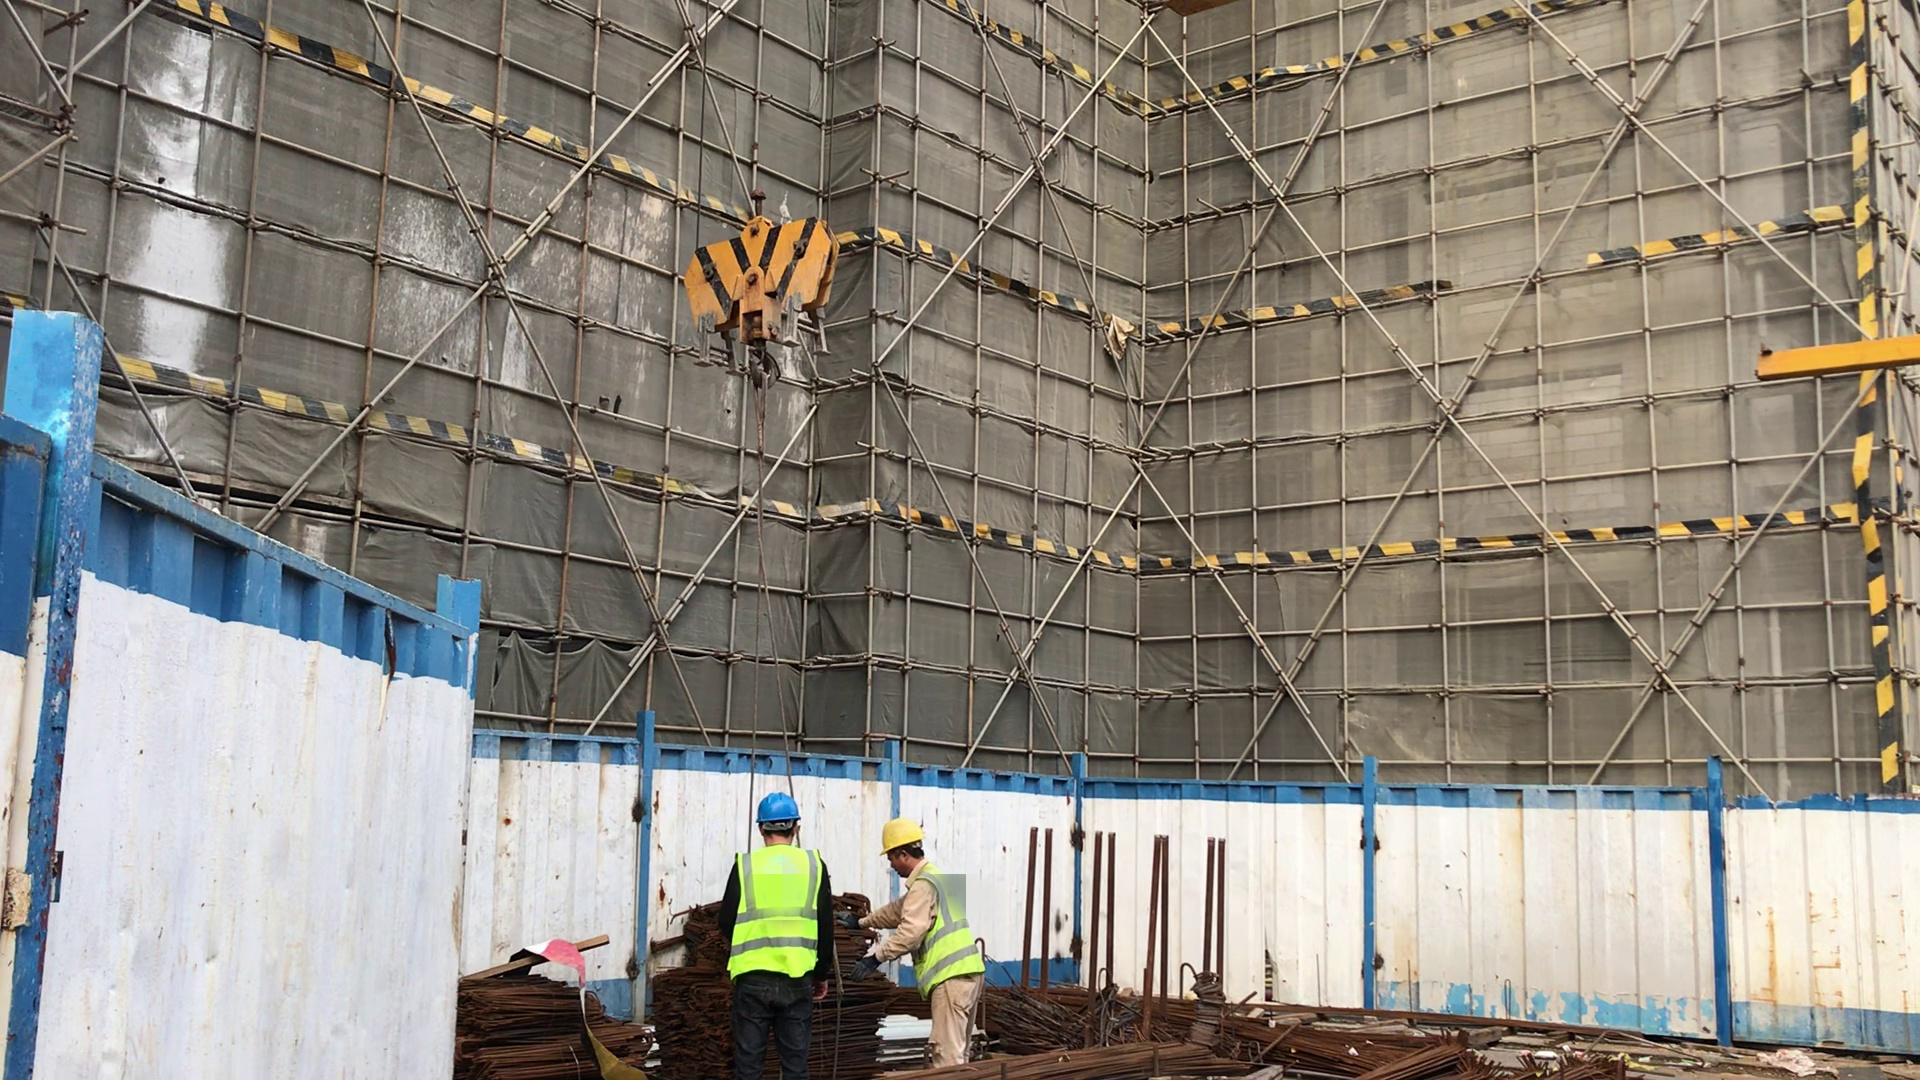helmet: (871, 816, 932, 871), (748, 792, 813, 841)
person: (711, 787, 850, 1060), (867, 810, 985, 1075)
vest: (739, 843, 819, 973), (890, 879, 986, 971)
